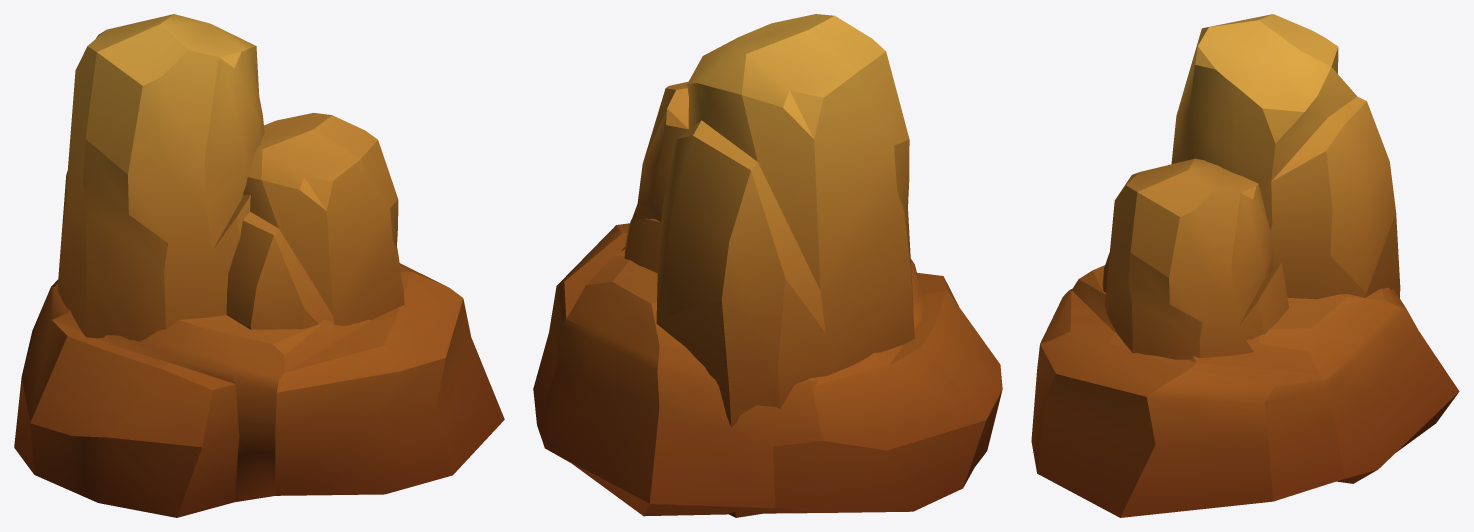
File: Rocks.fbx
3 views of the same model, side by side, from view 1: azimuth 30°, elevation 25°; view 2: azimuth 150°, elevation 25°; view 3: azimuth 270°, elevation 25° (orthographic). The views are drawn at different scales.
Parts seen in each view (by area): view 1: Rock_Large_3, Rock_Large_1; view 2: Rock_Large_3, Rock_Large_1; view 3: Rock_Large_3, Rock_Large_1.
Part boxes in pixels (x1,y1,x2,y2): Rock_Large_3: (57,14,404,341); Rock_Large_1: (14,263,504,517); Rock_Large_3: (624,14,914,517); Rock_Large_1: (533,223,1002,516); Rock_Large_3: (1102,14,1400,359); Rock_Large_1: (1031,265,1459,517).
Size of the model in its own units: 767 by 752 by 733.
